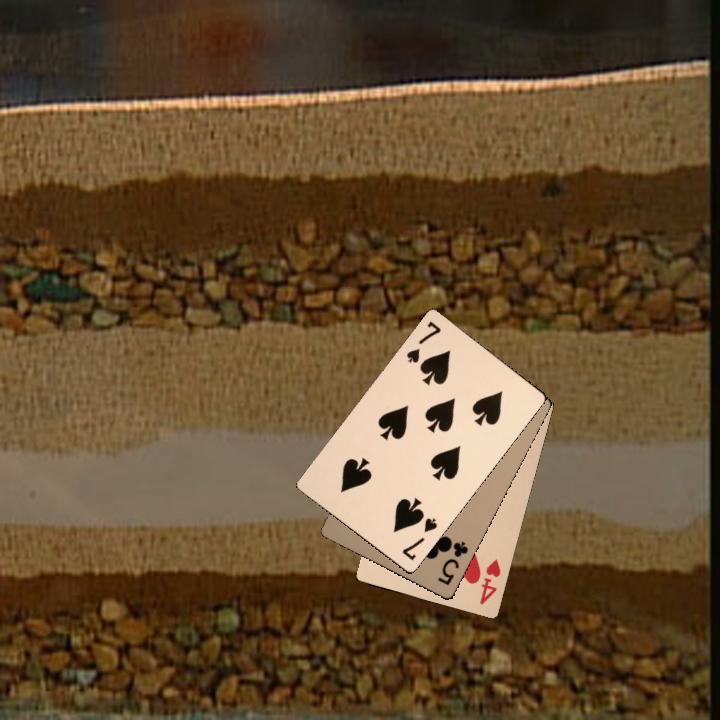4h: (476, 555, 503, 607)
5c: (434, 537, 471, 588)
7s: (398, 514, 440, 563), (402, 317, 444, 366)
